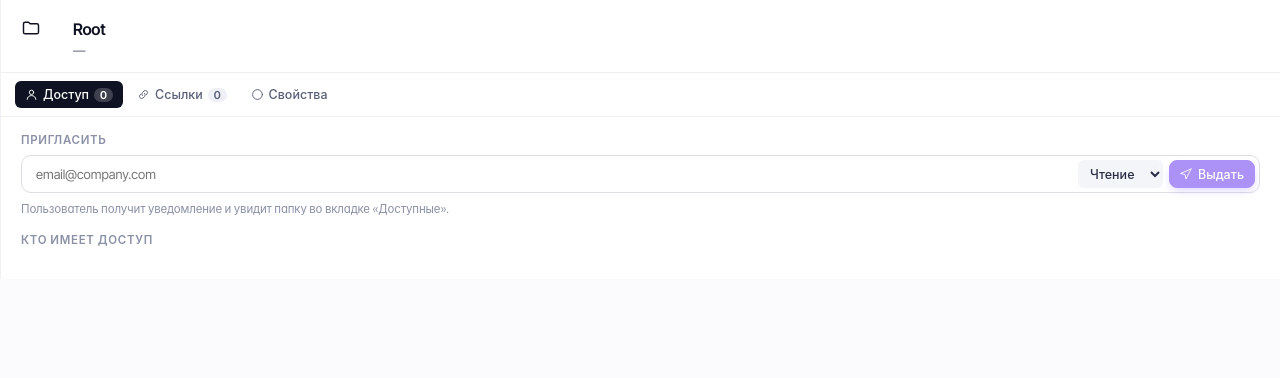
Test case: Inspector — links tab › renders links tab
Click the button "Ссылки 0": point(182, 94) left=127, top=81, right=237, bottom=108
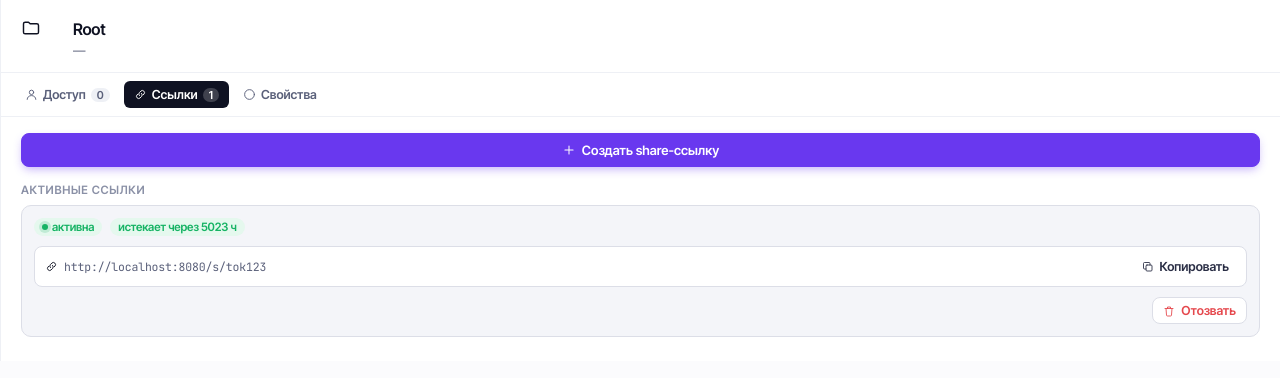
Result: the button "Создать share-ссылку" is shown at left=21, top=133, right=1260, bottom=167
